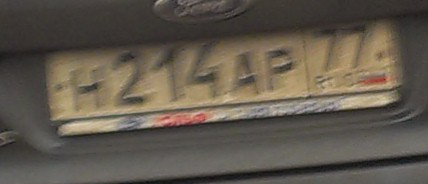character: (184, 41, 220, 101), (111, 49, 146, 105), (259, 46, 297, 96), (68, 64, 106, 111), (226, 51, 262, 99), (150, 47, 181, 102), (336, 23, 371, 69), (308, 26, 340, 70)
